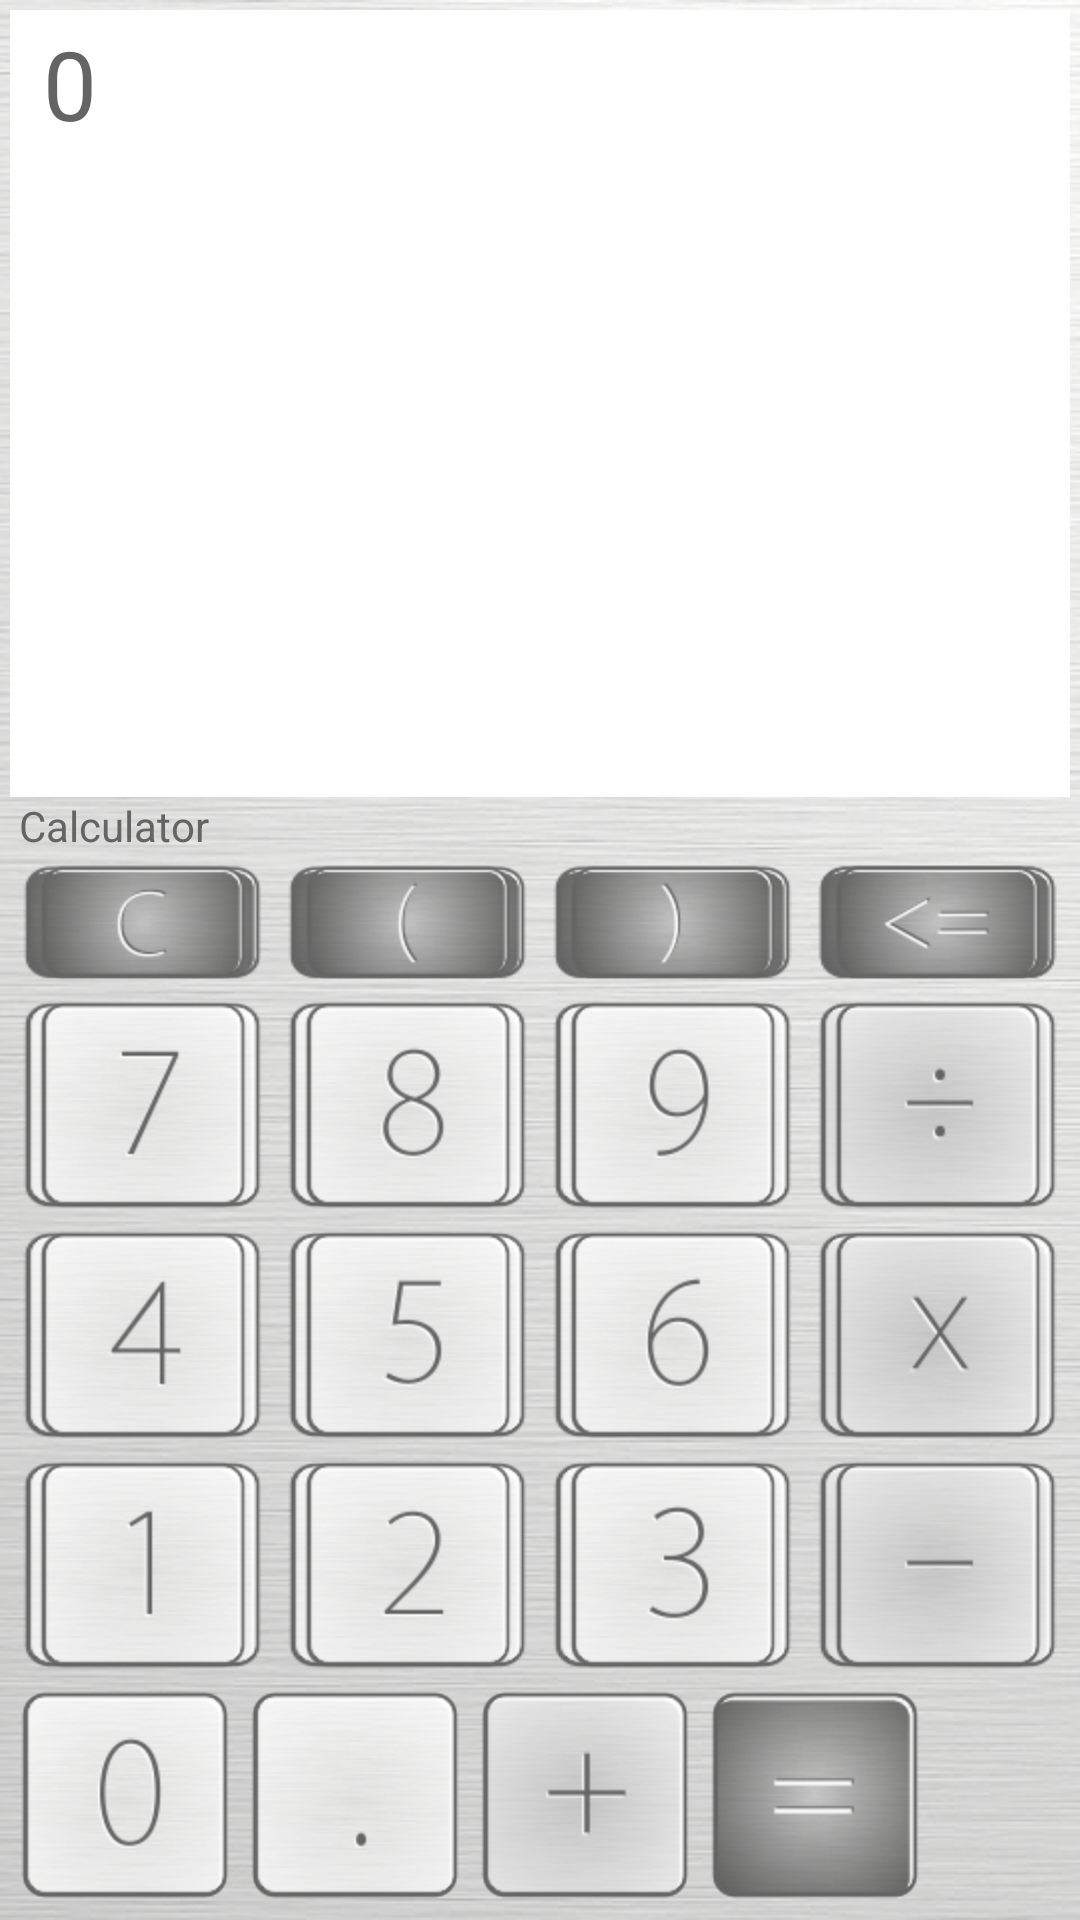

Screen size 1080px x 1920px. Icon name, then its box in pixels as (left=x1, top=y1, right=x2, bottom=y2):
backspace: (left=818, top=865, right=1061, bottom=981)
bracket: (left=288, top=865, right=526, bottom=986), (left=553, top=865, right=791, bottom=979)
divide: (left=819, top=1002, right=1056, bottom=1208)
dot: (left=251, top=1692, right=458, bottom=1900)
make: (left=712, top=1692, right=918, bottom=1898)
multiply: (left=819, top=1232, right=1056, bottom=1438)
plus: (left=482, top=1692, right=689, bottom=1898)
subtraction: (left=819, top=1462, right=1056, bottom=1668)
